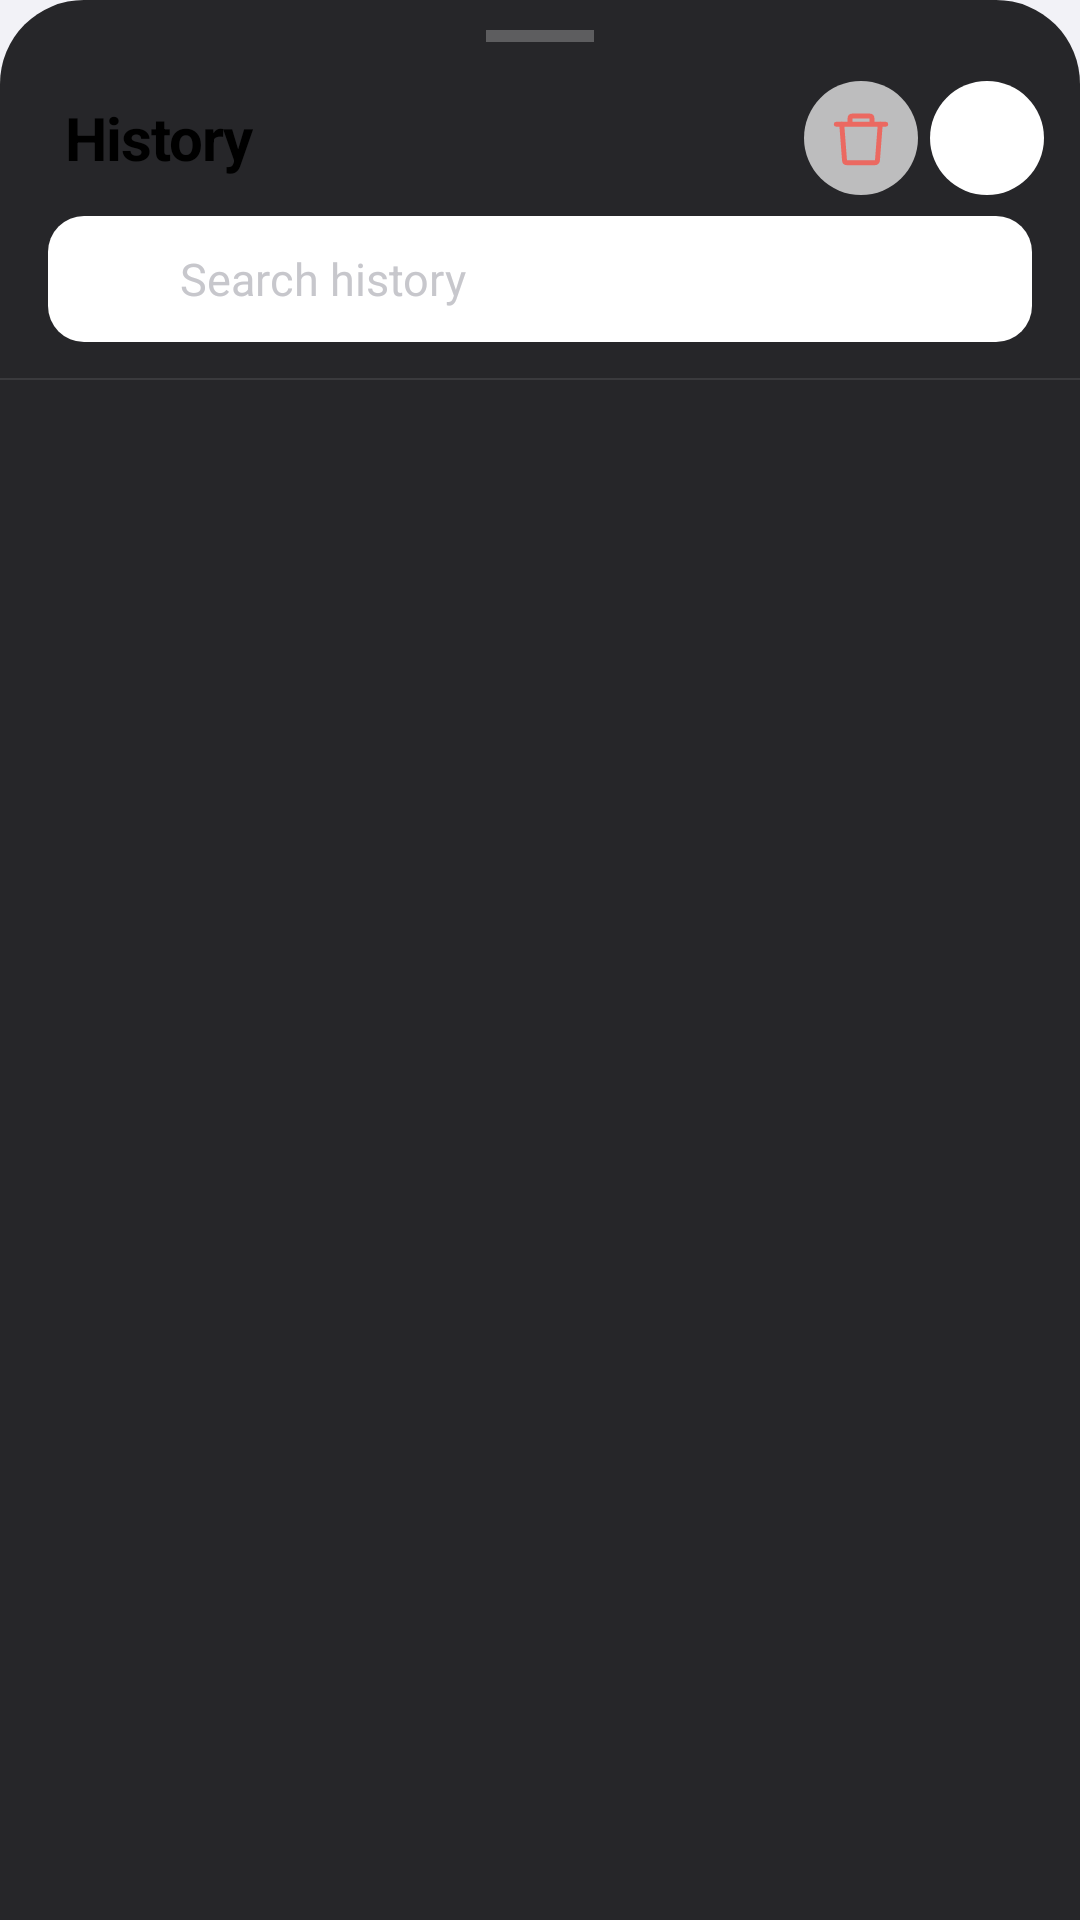

Where icons sit on this 1080x1920 app screen, as bbox(x1, y1, x2, y2):
Clear History: bbox(804, 81, 918, 195)
